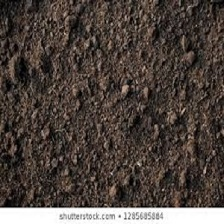loamy_soil: (8, 13, 211, 186)
